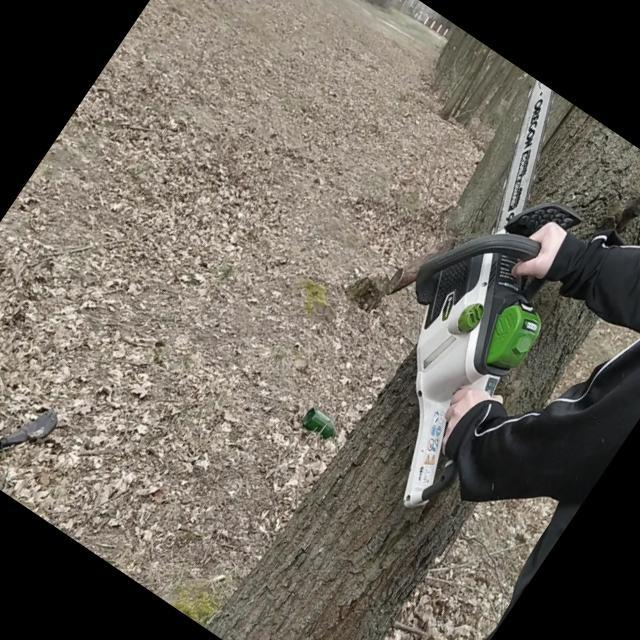Chainsaw: (284, 73, 640, 525)
